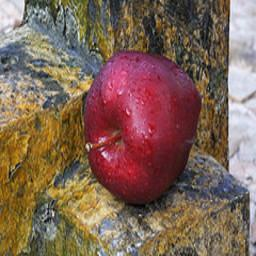apple: (83, 53, 201, 208)
